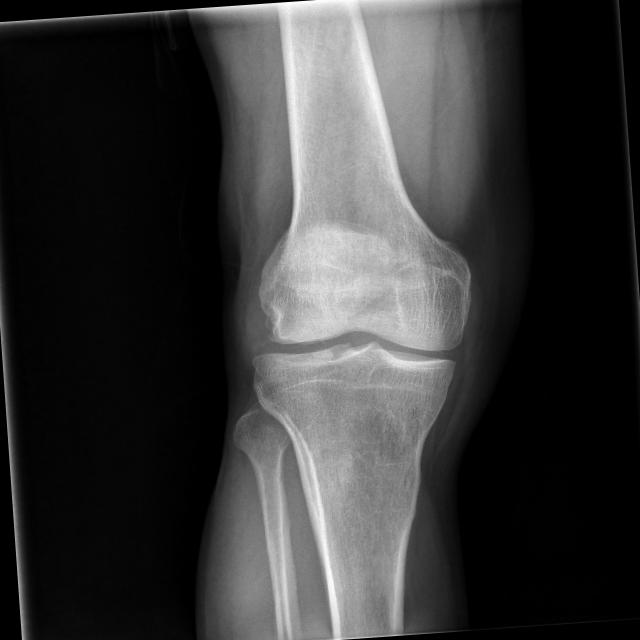Knee: (242, 228, 482, 418)
